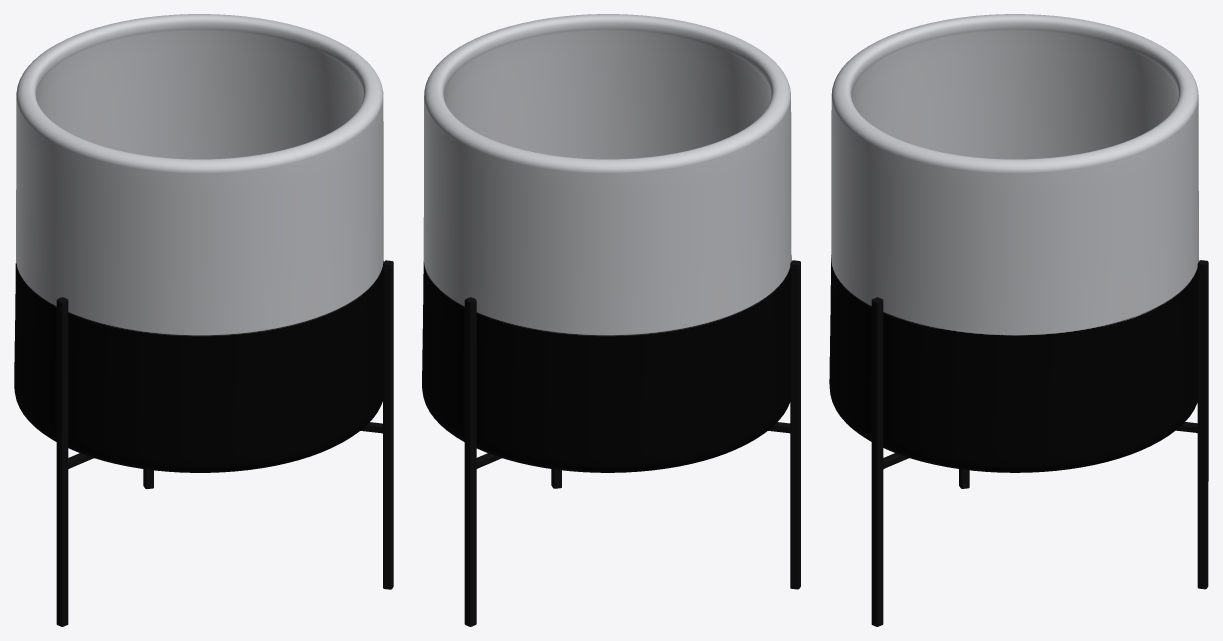
The model's file is planter_B07QB748ZB.glb.
3 views of the same model, side by side, from view 1: azimuth 30°, elevation 25°; view 2: azimuth 150°, elevation 25°; view 3: azimuth 270°, elevation 25° (orthographic).
Parts seen in each view (by area): view 1: RootNode; view 2: RootNode; view 3: RootNode.
Part boxes in pixels (left/top/right/bottom): RootNode: left=14, top=14, right=393, bottom=626; RootNode: left=422, top=14, right=800, bottom=626; RootNode: left=829, top=14, right=1208, bottom=626.
Size of the model in its own units: 0.3099 by 0.432 by 0.31.
Materials: 1 (1 with a texture image).
